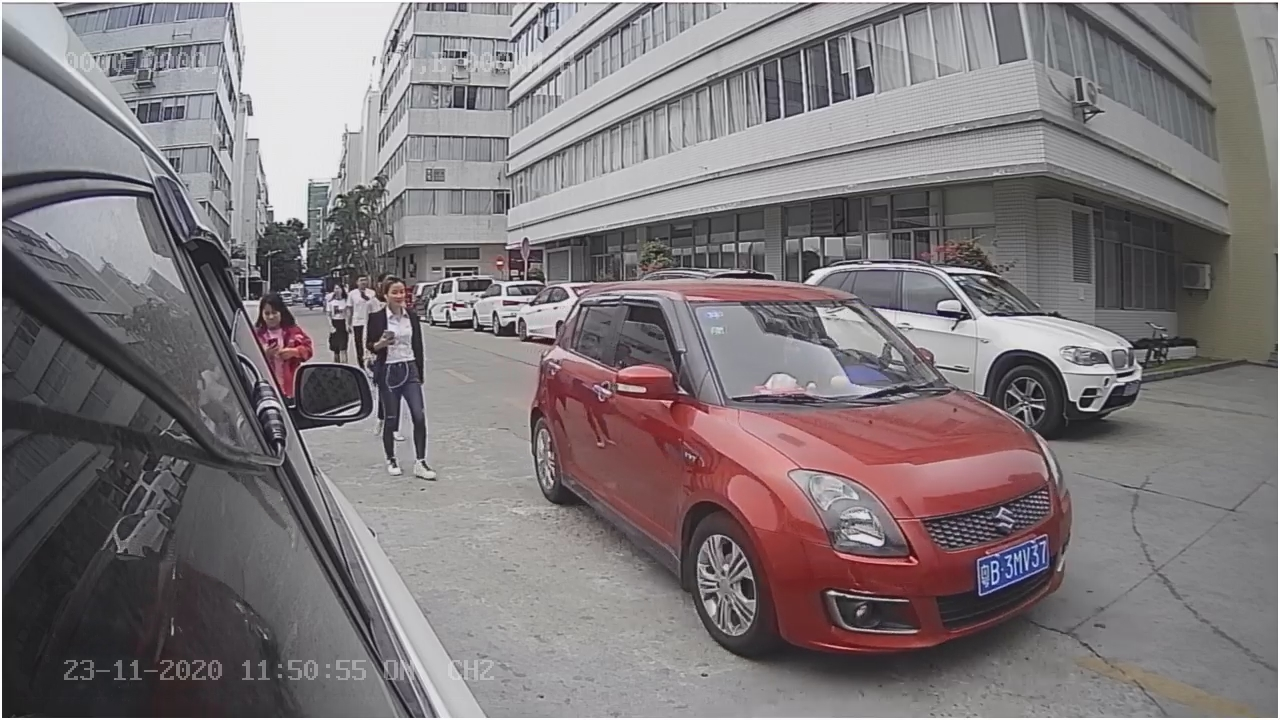person: (360, 279, 460, 366)
